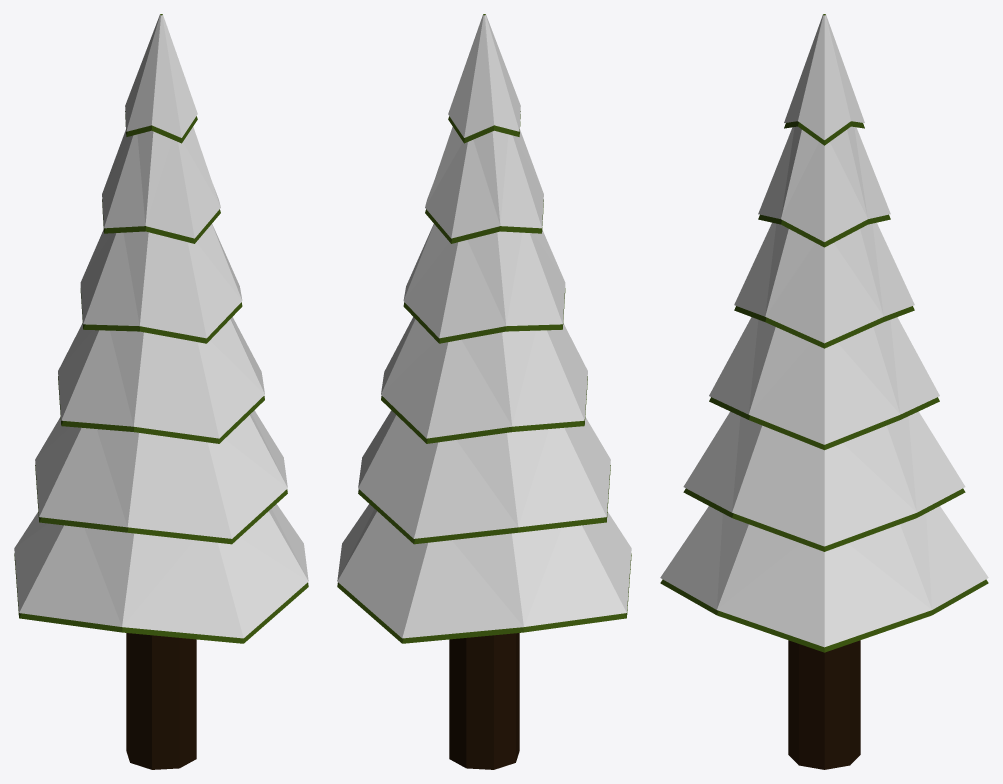
Rendered from tree_snow.obj.
3 views of the same model, side by side, from view 1: azimuth 30°, elevation 25°; view 2: azimuth 150°, elevation 25°; view 3: azimuth 270°, elevation 25° (orthographic).
Visible parts, largest first — view 1: Object002; view 2: Object002; view 3: Object002.
Boxes of the visible parts, bbox=[...] form: Object002: bbox=[14, 14, 308, 769]; Object002: bbox=[337, 14, 631, 769]; Object002: bbox=[660, 14, 988, 769].
Bounding box in the file's own units: 2.02 × 5.02 × 2.02.
